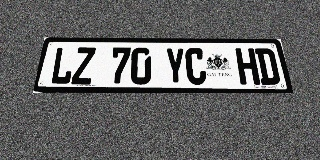0: (130, 48, 151, 85)
7: (109, 47, 131, 85)
C: (185, 48, 207, 85)
D: (255, 48, 281, 85)
H: (235, 48, 260, 85)
L: (49, 47, 76, 84)
Y: (165, 48, 186, 85)
Z: (71, 47, 96, 84)
